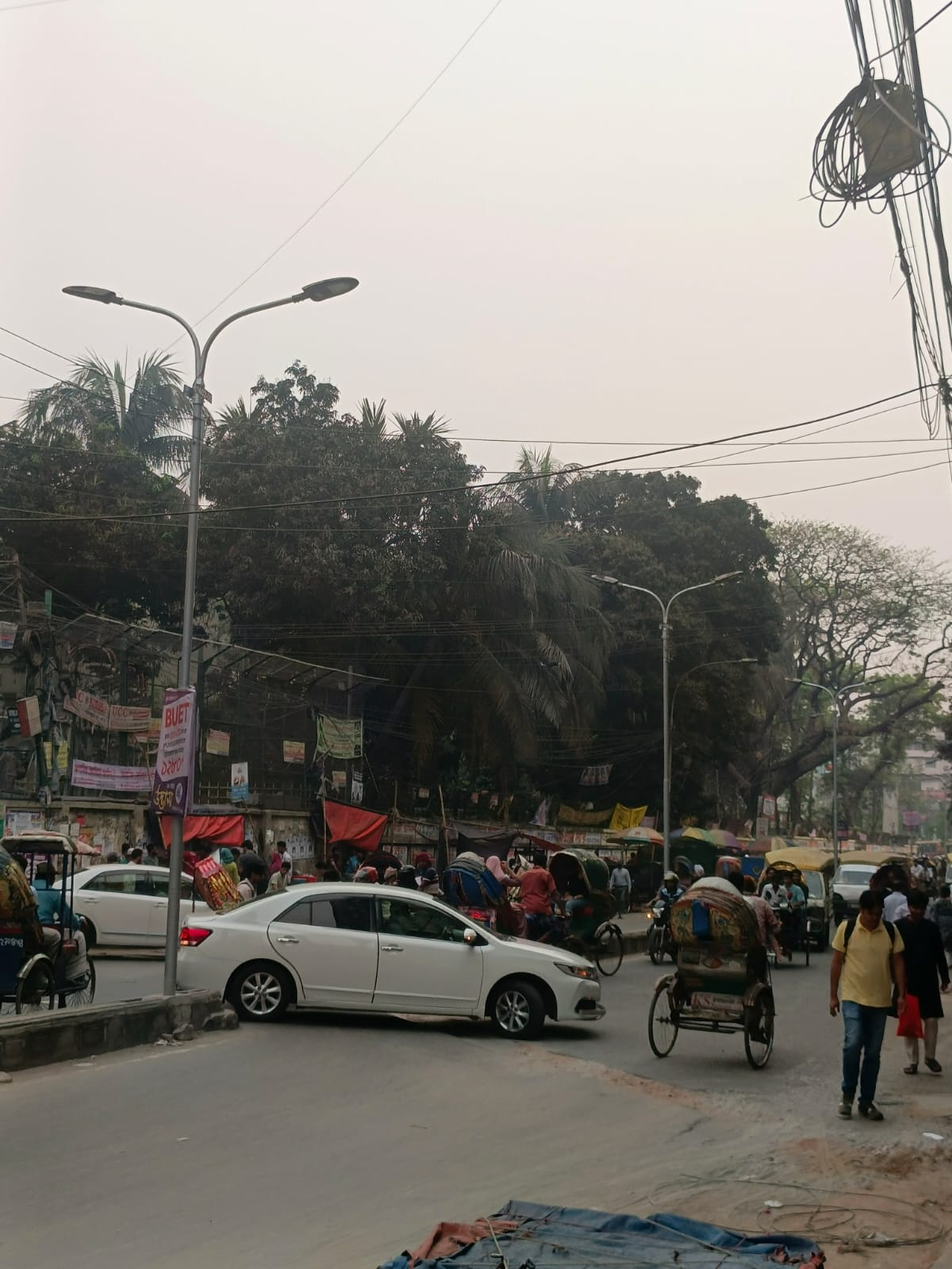auto-ricksaw: (649, 870, 777, 1065)
private car: (168, 859, 628, 1038)
